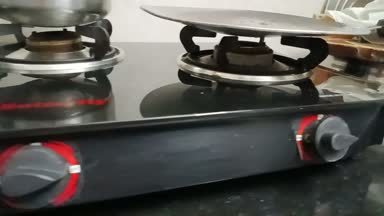flame_gas_off: (202, 28, 358, 161), (2, 23, 95, 209)
